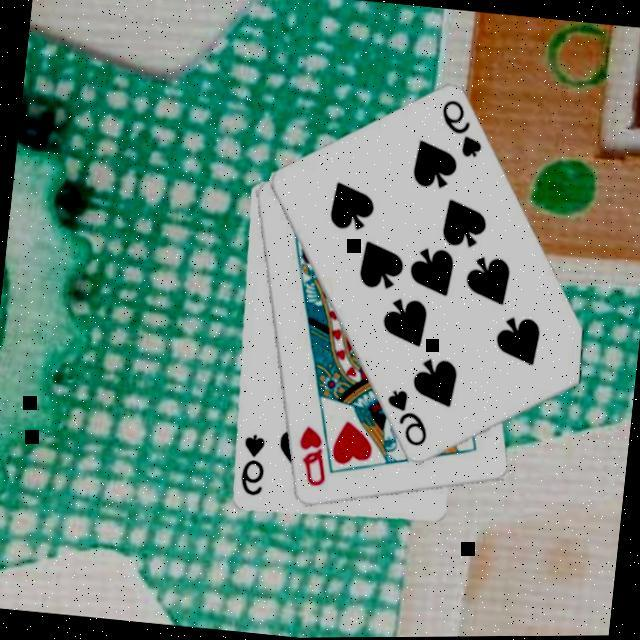6S: (234, 432, 268, 502)
9S: (432, 98, 488, 165), (378, 386, 433, 454)
QH: (288, 424, 332, 492)
